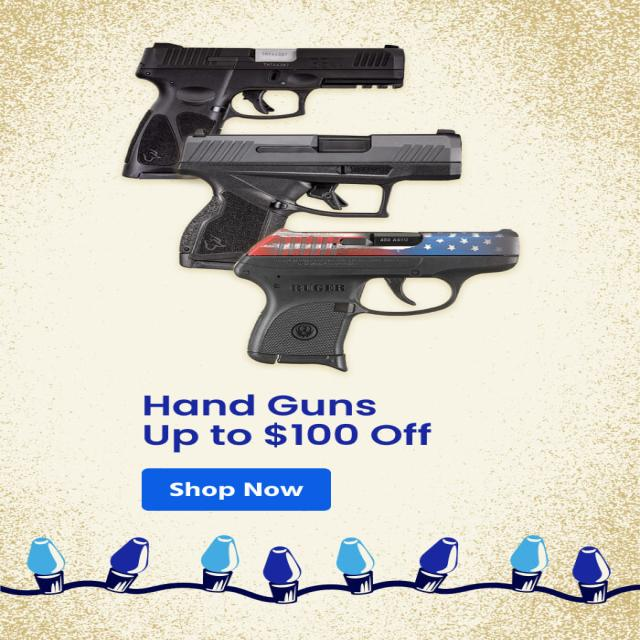HandGun: (233, 230, 521, 372), (177, 129, 462, 271), (122, 42, 404, 179)
